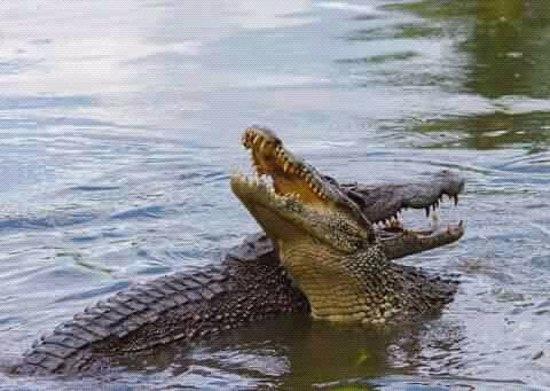crocodile: (12, 168, 470, 378), (228, 119, 464, 328)
